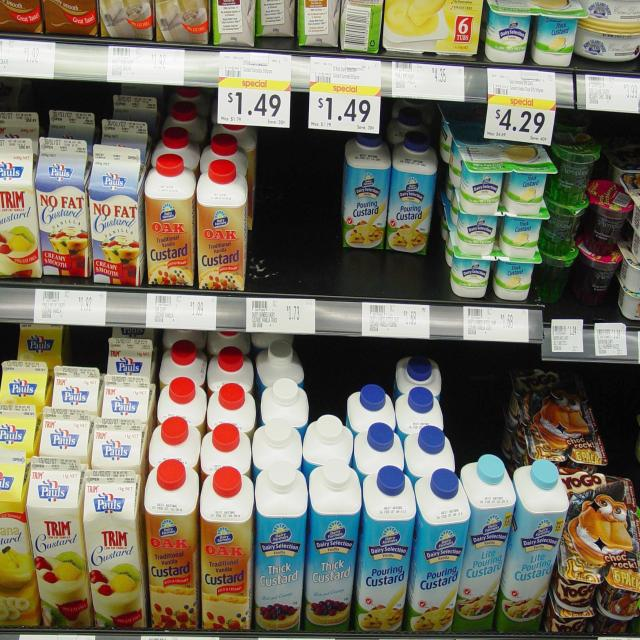empty_space: (259, 134, 341, 293), (346, 253, 442, 299), (308, 340, 392, 388), (452, 365, 498, 451), (548, 275, 613, 317)
